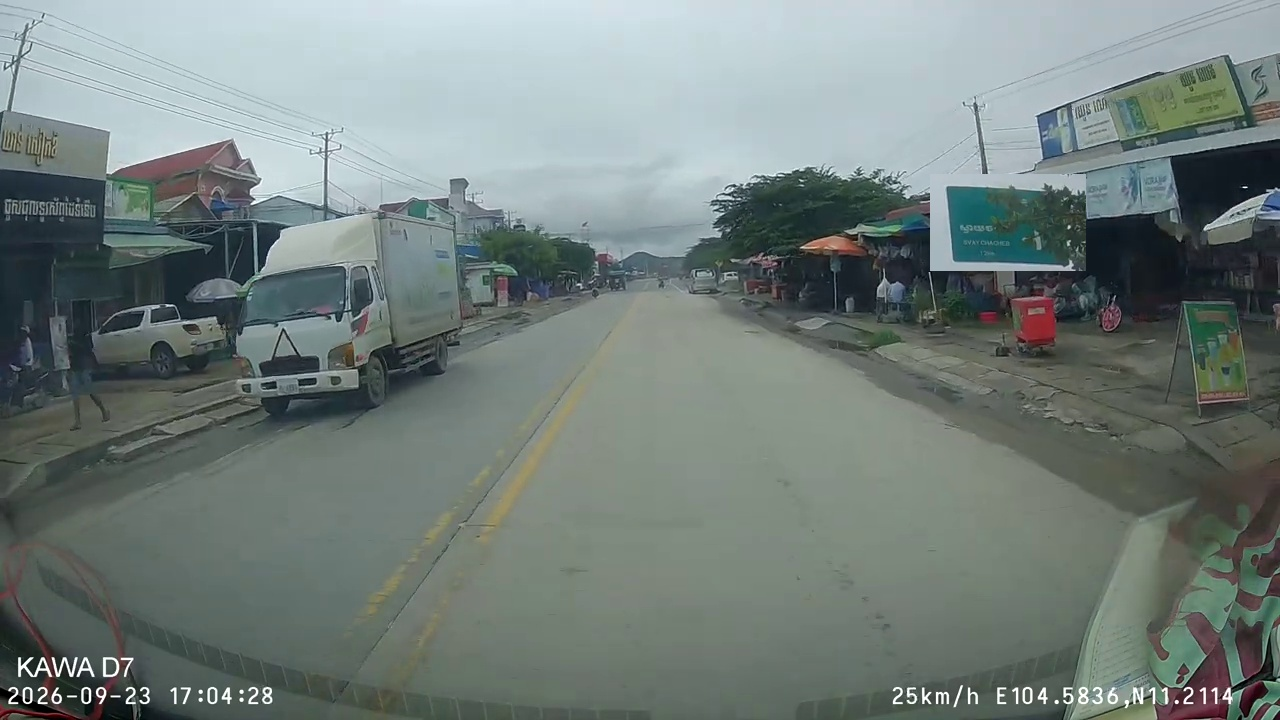direction_sign: (930, 174, 1086, 271)
